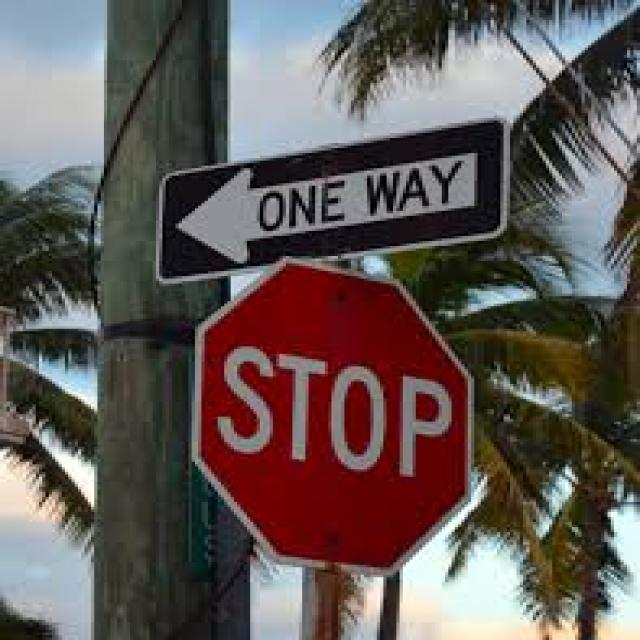stop-sign: (170, 226, 510, 601), (108, 120, 206, 150)
